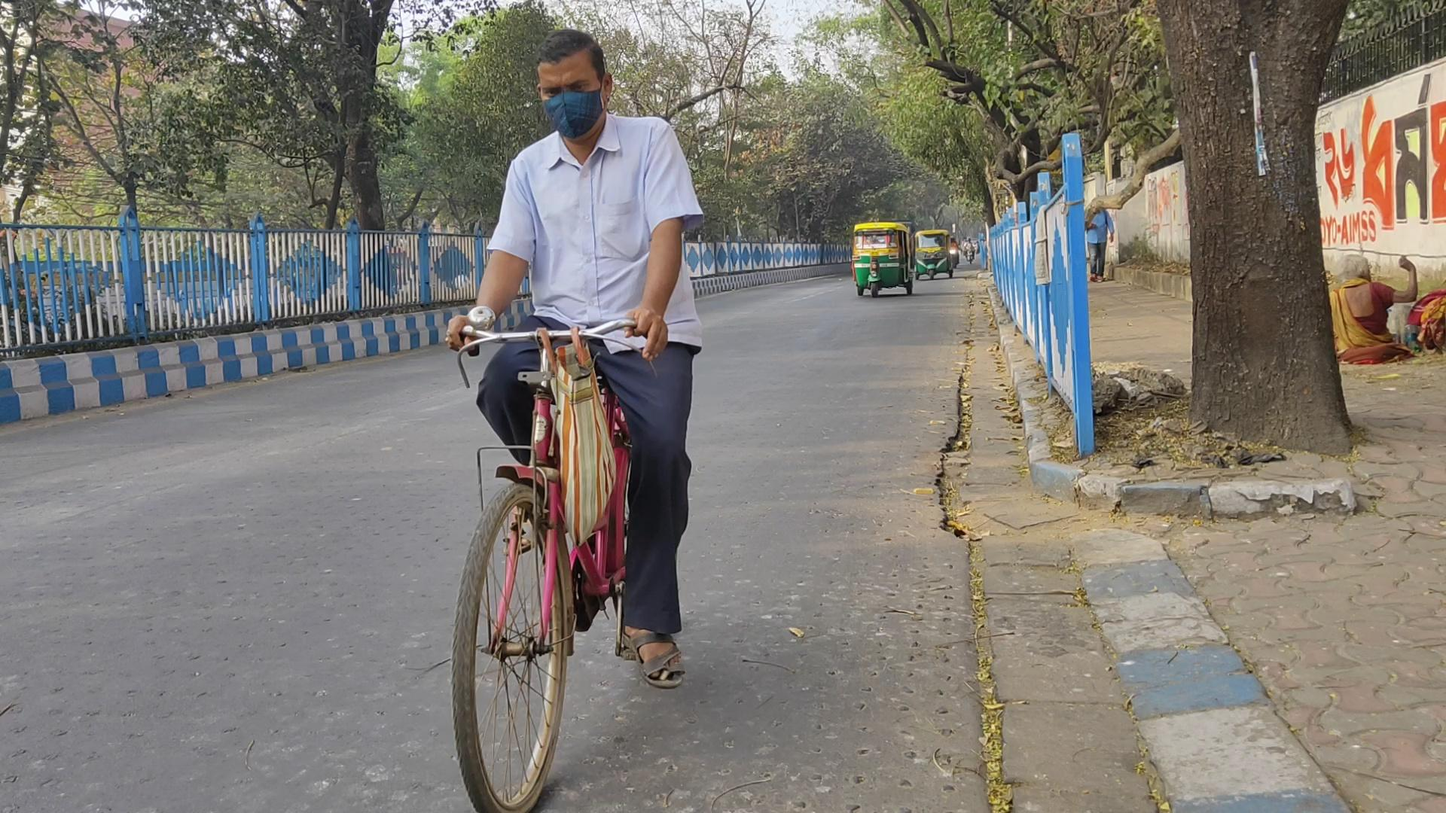Auto: (916, 230, 953, 281)
bike: (446, 29, 703, 810), (850, 222, 917, 296), (950, 236, 962, 269), (964, 237, 977, 265)
